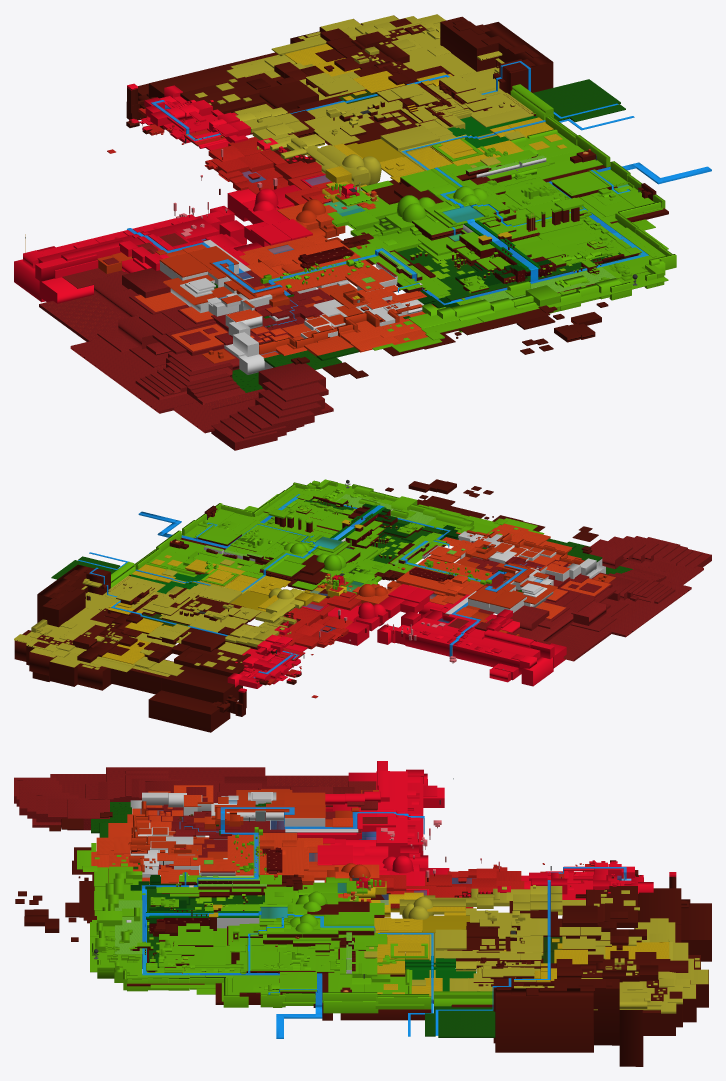
Rendered from Level2NoCollidersCombinedFinal2.fbx.
3 renders of one model, top to bottom at view 1: azimuth 30°, elevation 25°; view 2: azimuth 150°, elevation 25°; view 3: azimuth 270°, elevation 25°, orthographic. The views are drawn at different scales.
Visible parts, largest first — view 1: polySurface914, polySurface377, polySurface2594, polySurface2393, polySurface2034, polySurface2592, polySurface2100, polySurface1303, polySurface998, polySurface2002, polySurface2477, polySurface2620; view 2: polySurface914, polySurface2594, polySurface377, polySurface1303, polySurface2100, polySurface2393, polySurface2034, polySurface2592, polySurface998, polySurface2002, polySurface2477, polySurface2620; view 3: polySurface914, polySurface2594, polySurface377, polySurface1303, polySurface2592, polySurface2393, polySurface2100, polySurface998, polySurface2034, polySurface2002, polySurface2477, polySurface2620.
Boxes of the visible parts, x1,y1,x2,y2 form: polySurface914: (151,14,625,145); polySurface377: (277,116,634,308); polySurface2594: (403,116,676,307); polySurface2393: (39,295,368,450); polySurface2034: (90,239,337,374); polySurface2592: (295,269,601,356); polySurface2100: (14,181,325,303); polySurface1303: (107,54,340,153); polySurface998: (250,79,486,186); polySurface2002: (203,219,404,293); polySurface2477: (200,121,338,208); polySurface2620: (212,162,711,305); polySurface914: (14,556,299,694); polySurface2594: (134,479,435,591); polySurface377: (89,503,459,605); polySurface1303: (132,624,318,732); polySurface2100: (335,584,566,686); polySurface2393: (546,526,711,661); polySurface2034: (444,545,615,641); polySurface2592: (379,479,572,571); polySurface998: (109,573,313,637); polySurface2002: (386,546,495,618); polySurface2477: (235,598,361,649); polySurface2620: (138,494,526,591); polySurface914: (405,867,708,1066); polySurface2594: (71,895,431,1020); polySurface377: (130,864,433,1036); polySurface1303: (513,860,711,961); polySurface2592: (15,823,229,936); polySurface2393: (14,767,348,837); polySurface2100: (285,761,458,878); polySurface998: (380,892,562,979); polySurface2034: (127,783,361,847); polySurface2002: (213,827,364,884); polySurface2477: (379,858,530,913); polySurface2620: (142,807,322,1038).
Bounding box in the file's own units: 777 × 102 × 811.
